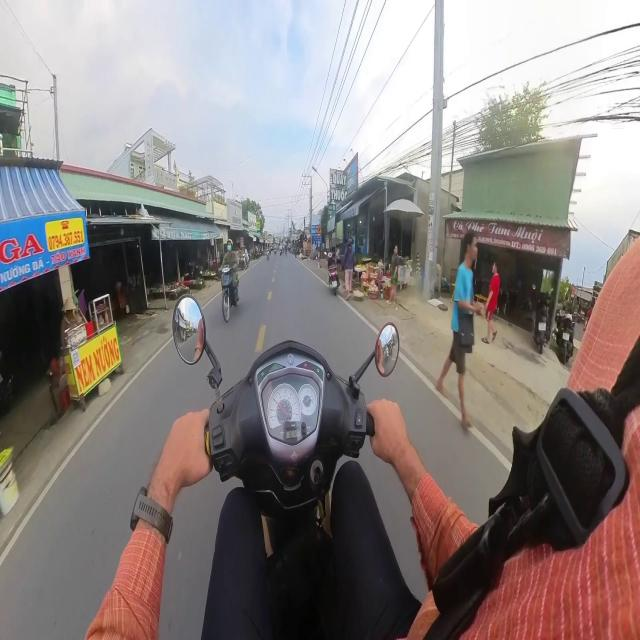motorcycle: (174, 296, 399, 638), (556, 313, 574, 363), (222, 266, 238, 321), (533, 300, 549, 354), (328, 261, 340, 295)
